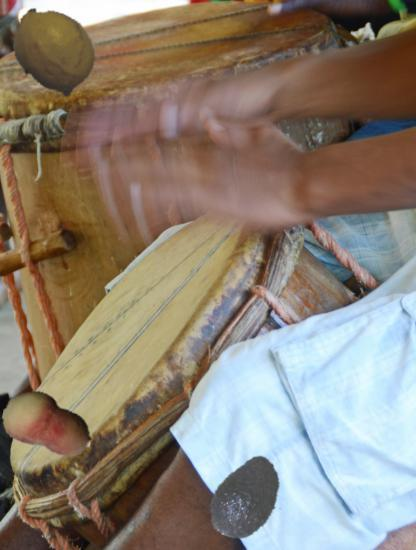Avocado: (204, 453, 294, 543)
Lemon: (6, 2, 102, 98)
Peach: (2, 376, 95, 469)
